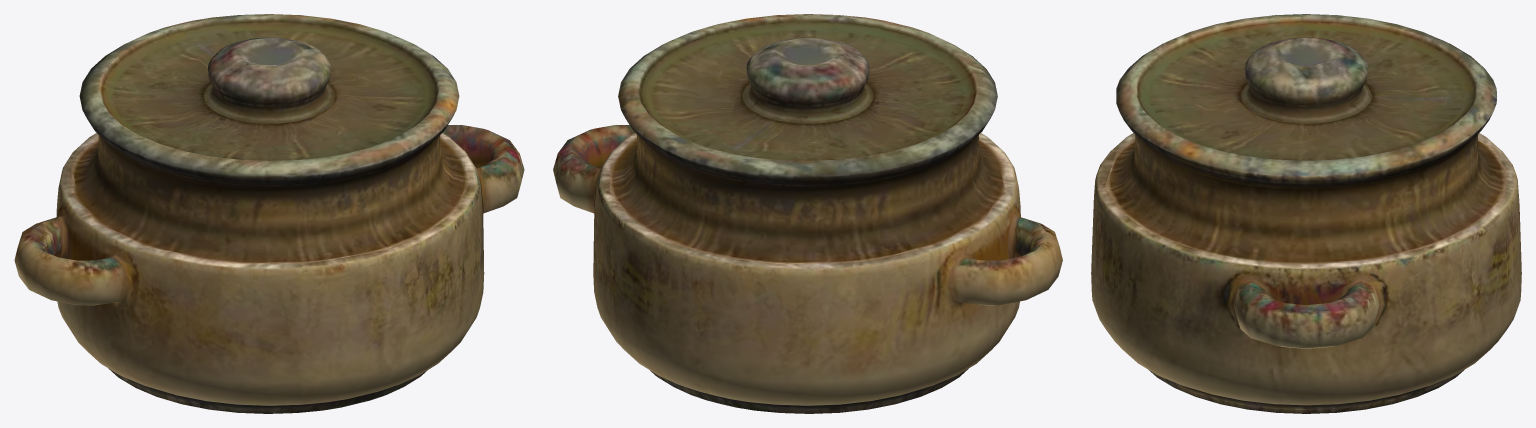
The model's file is ceramic_pot.glb.
3 views of the same model, side by side, from view 1: azimuth 30°, elevation 25°; view 2: azimuth 150°, elevation 25°; view 3: azimuth 270°, elevation 25° (orthographic).
Parts seen in each view (by area): view 1: ceramic_pot; view 2: ceramic_pot; view 3: ceramic_pot.
Part boxes in pixels (x1,y1,x2,y2): ceramic_pot: (14, 14, 524, 413); ceramic_pot: (553, 14, 1062, 413); ceramic_pot: (1091, 14, 1521, 413).
Bounding box in the file's own units: 0.6563 × 0.3717 × 0.5018.
1 material, 1 textured.
